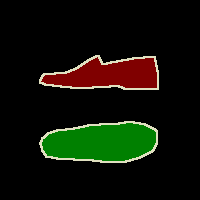shoe: (40, 122, 157, 162), (40, 55, 158, 89)
